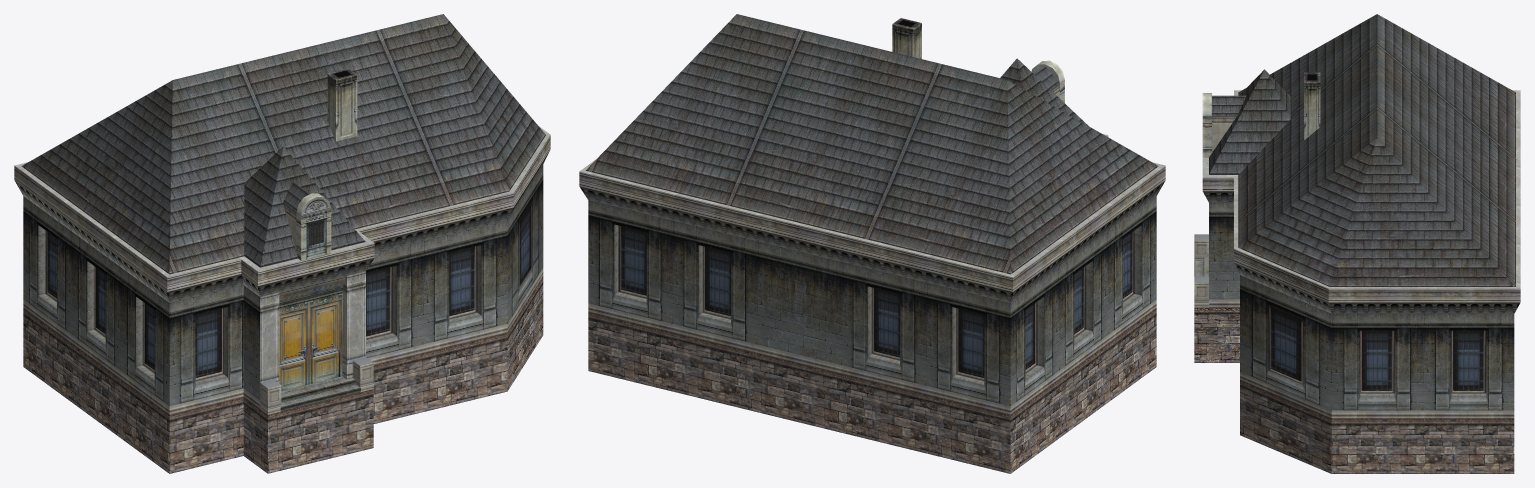
File: rd_vil1.glb
3 renders of one model, left to right at view 1: azimuth 30°, elevation 25°; view 2: azimuth 150°, elevation 25°; view 3: azimuth 270°, elevation 25°, orthographic. The views are drawn at different scales.
Parts seen in each view (by area): view 1: rd_vil1; view 2: rd_vil1; view 3: rd_vil1.
Boxes of the visible parts, x1,y1,x2,y2 form: rd_vil1: [14, 14, 550, 473]; rd_vil1: [579, 14, 1165, 473]; rd_vil1: [1194, 14, 1520, 473].
Size of the model in its own units: 20.53 by 14.56 by 14.27.
Materials: 11 (11 with a texture image).
